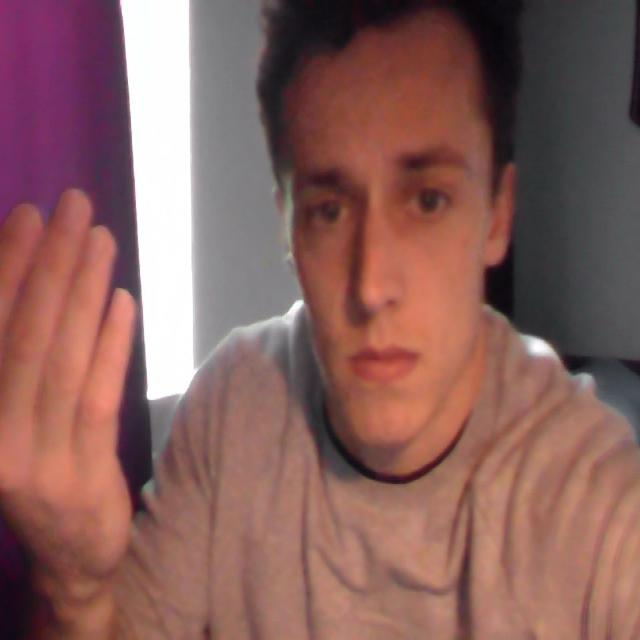forward: (0, 183, 184, 615)
